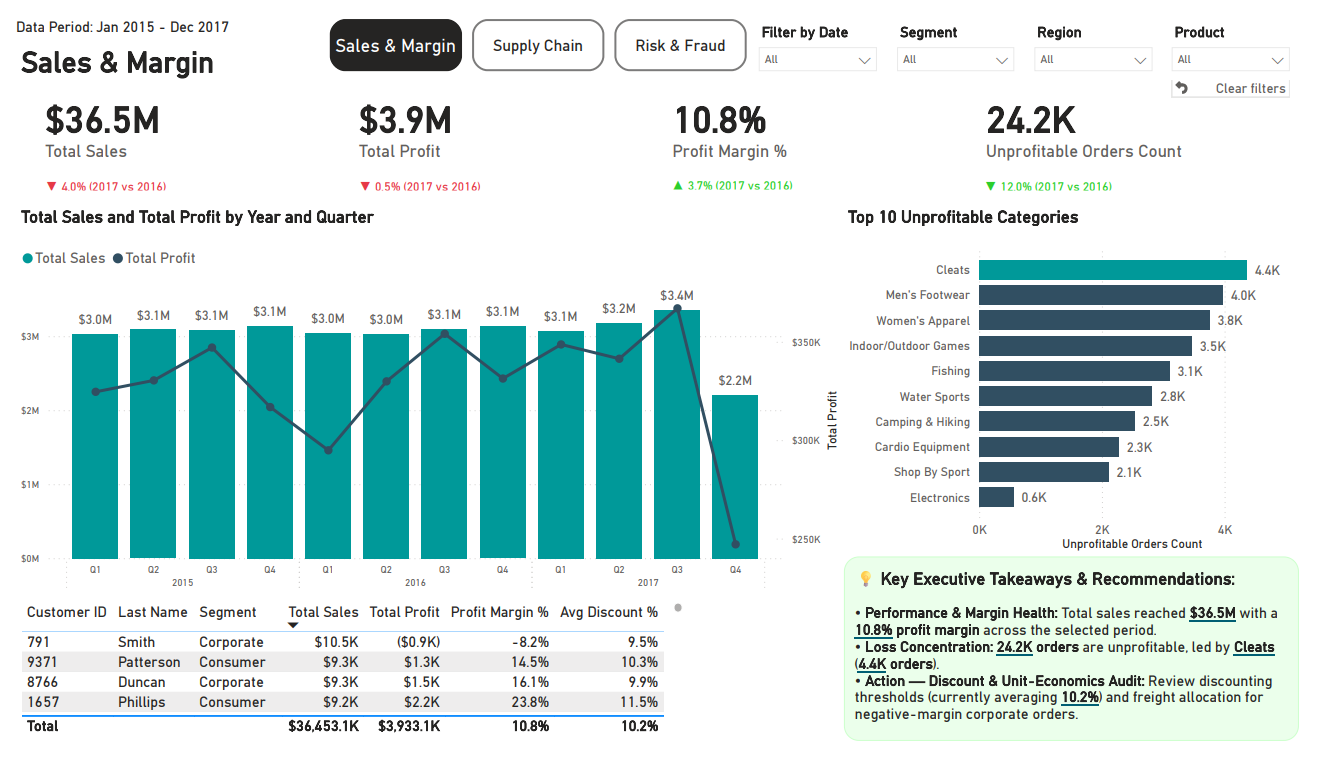

The dashboard page shown, as its layout file describes it:
{"tool":"powerbi","page":{"name":"Sales & Margin","canvas":[1280,720],"ordinal":0},"visuals":[{"type":"cardVisual","fields":{"Data":["_Measures.Total Sales","_Measures.Total Profit","_Measures.Profit Margin %","_Measures.Unprofitable Orders Count"]},"box":[0,57.6,1280.3,104.8],"z":0},{"type":"lineStackedColumnComboChart","title":"Total Sales and Total Profit by Year and Quarter","fields":{"Y":["_Measures.Total Sales"],"Y2":["_Measures.Total Profit"],"Category":["Dim_Calendar.Year","Dim_Calendar.Quarter","Dim_Calendar.Month Name"]},"box":[0,187.1,825.7,391.4],"z":1000},{"type":"clusteredBarChart","title":"Top 10 Unprofitable Categories","fields":{"Y":["_Measures.Unprofitable Orders Count"],"Category":["core dim_products.category_name"]},"box":[825,186.7,455,348.3],"z":2000},{"type":"tableEx","fields":{"Values":["core dim_customers.customer_id","core dim_customers.last_name","core dim_customers.segment","_Measures.Total Sales","_Measures.Total Profit","_Measures.Profit Margin %","_Measures.Avg Discount %"]},"box":[0,577.1,670,142.9],"z":3000},{"type":"textbox","box":[825.7,535.7,454.3,184.3],"z":4000},{"type":"shape","box":[0,0,223.6,22.7],"z":5000},{"type":"pageNavigator","box":[312.9,0,418.3,51.7],"z":6000},{"type":"textbox","box":[0,21,251,46],"z":7000},{"type":"actionButton","box":[1152.9,57.6,117.6,20.6],"z":8000},{"type":"slicer","fields":{"Values":["Dim_Calendar.Year","Dim_Calendar.Month Name"]},"box":[731.4,0,137.7,60],"z":9000},{"type":"cardVisual","fields":{"Data":["_Measures.Total Sales YoY Formatted"]},"box":[0,141.7,200,46.2],"z":10000},{"type":"cardVisual","fields":{"Data":["_Measures.Total Profit YoY Formatted"]},"box":[312.7,141.8,200,46.2],"z":11000},{"type":"cardVisual","fields":{"Data":["_Measures.Profit Margin % YoY Formetted"]},"box":[625.5,141.8,188.2,45.5],"z":12000},{"type":"cardVisual","fields":{"Data":["_Measures.Unprofitable Orders Count YoY Formatted"]},"box":[936.7,141.7,200,46.2],"z":13000},{"type":"slicer","fields":{"Values":["Dim_Products.category_name"]},"box":[1142.9,0,137.7,60],"z":14000},{"type":"slicer","fields":{"Values":["Dim_Customers.segment"]},"box":[868.6,0,137.7,60],"z":15000},{"type":"slicer","fields":{"Values":["Dim_Geography.order_region"]},"box":[1005.8,0,137.7,60],"z":16000}]}

Visuals, with their boxes in screenshot pixels (x1, y1, x2, y2), scaled from the page's 1280x720 canvas onto the 1317x761 screenshot:
cardVisual - _Measures.Total Sales x _Measures.Total Profit: {"x1": 0, "y1": 61, "x2": 1316, "y2": 172}
"Total Sales and Total Profit by Year and Quarter" lineStackedColumnComboChart: {"x1": 0, "y1": 198, "x2": 850, "y2": 611}
"Top 10 Unprofitable Categories" clusteredBarChart: {"x1": 849, "y1": 197, "x2": 1316, "y2": 565}
tableEx - core dim_customers.customer_id x core dim_customers.last_name: {"x1": 0, "y1": 610, "x2": 689, "y2": 760}
textbox: {"x1": 850, "y1": 566, "x2": 1316, "y2": 760}
shape: {"x1": 0, "y1": 0, "x2": 230, "y2": 24}
pageNavigator: {"x1": 322, "y1": 0, "x2": 752, "y2": 55}
textbox: {"x1": 0, "y1": 22, "x2": 258, "y2": 71}
actionButton: {"x1": 1186, "y1": 61, "x2": 1307, "y2": 83}
slicer - Dim_Calendar.Year x Dim_Calendar.Month Name: {"x1": 753, "y1": 0, "x2": 894, "y2": 63}
cardVisual - _Measures.Total Sales YoY Formatted: {"x1": 0, "y1": 150, "x2": 206, "y2": 199}
cardVisual - _Measures.Total Profit YoY Formatted: {"x1": 322, "y1": 150, "x2": 528, "y2": 199}
cardVisual - _Measures.Profit Margin % YoY Formetted: {"x1": 644, "y1": 150, "x2": 837, "y2": 198}
cardVisual - _Measures.Unprofitable Orders Count YoY Formatted: {"x1": 964, "y1": 150, "x2": 1170, "y2": 199}
slicer - Dim_Products.category_name: {"x1": 1176, "y1": 0, "x2": 1316, "y2": 63}
slicer - Dim_Customers.segment: {"x1": 894, "y1": 0, "x2": 1035, "y2": 63}
slicer - Dim_Geography.order_region: {"x1": 1035, "y1": 0, "x2": 1177, "y2": 63}
